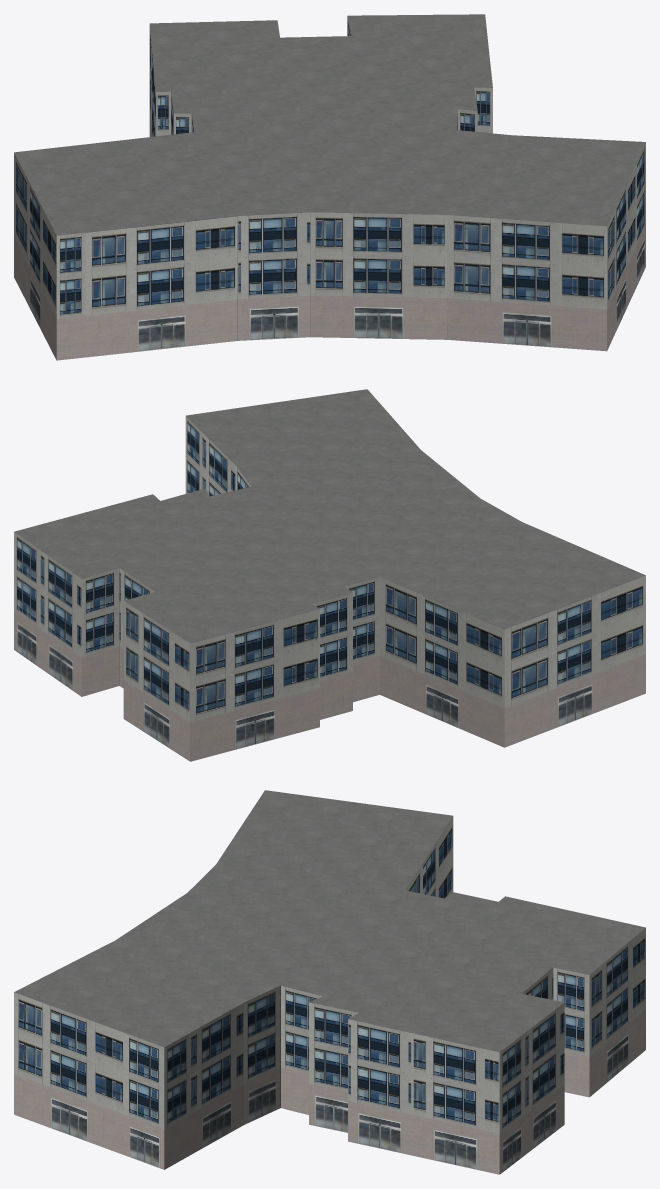
The picture shows the model from 3 angles, top to bottom: view 1: azimuth 30°, elevation 25°; view 2: azimuth 150°, elevation 25°; view 3: azimuth 270°, elevation 25°; orthographic projection. The views are drawn at different scales.
Visible parts, largest first — view 1: BuildingMaster_2008193317714462138000000000_1, BuildingMaster_2008193317714462138000000000_0; view 2: BuildingMaster_2008193317714462138000000000_0, BuildingMaster_2008193317714462138000000000_1; view 3: BuildingMaster_2008193317714462138000000000_1, BuildingMaster_2008193317714462138000000000_0.
Part boxes in pixels (x1,y1,x2,y2): BuildingMaster_2008193317714462138000000000_1: (14,14,645,235); BuildingMaster_2008193317714462138000000000_0: (14,16,645,360); BuildingMaster_2008193317714462138000000000_0: (14,416,645,761); BuildingMaster_2008193317714462138000000000_1: (14,389,645,643); BuildingMaster_2008193317714462138000000000_1: (14,790,645,1052); BuildingMaster_2008193317714462138000000000_0: (14,816,645,1174).
Bounding box in the file's own units: 48.23 × 10.5 × 49.12.
Materials: 2 (2 with a texture image).
